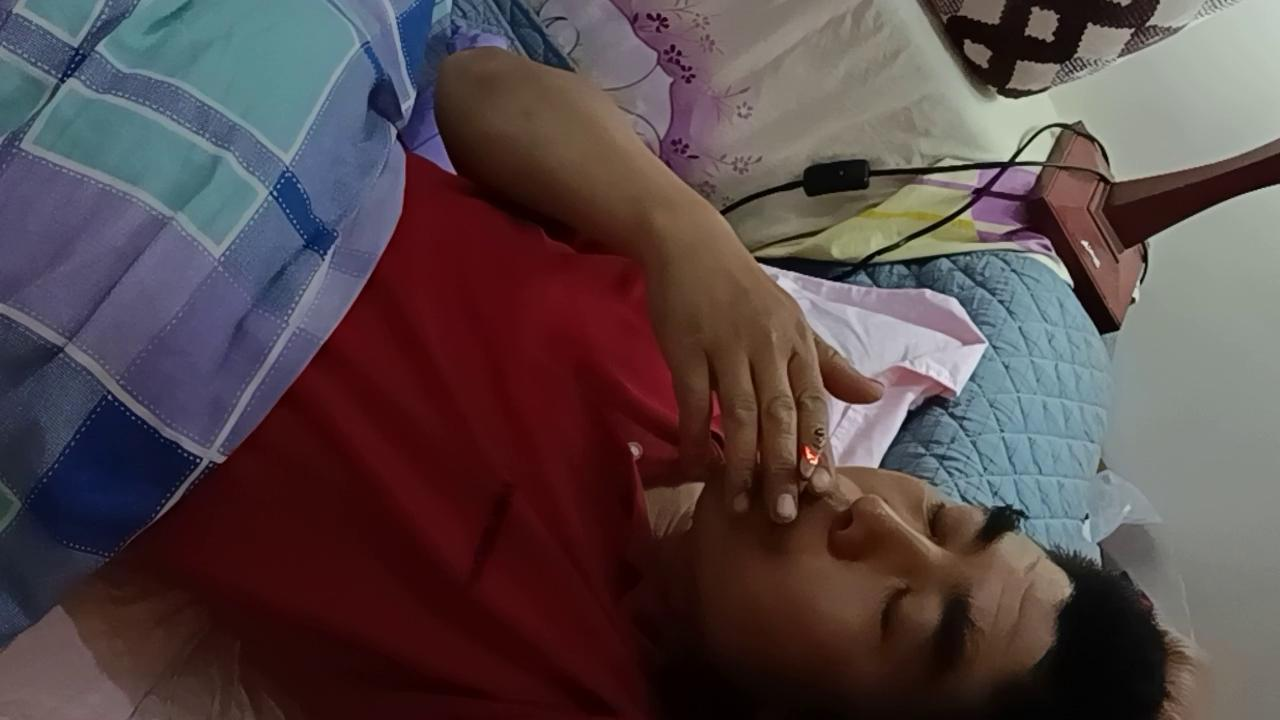smoke: (793, 427, 827, 498)
